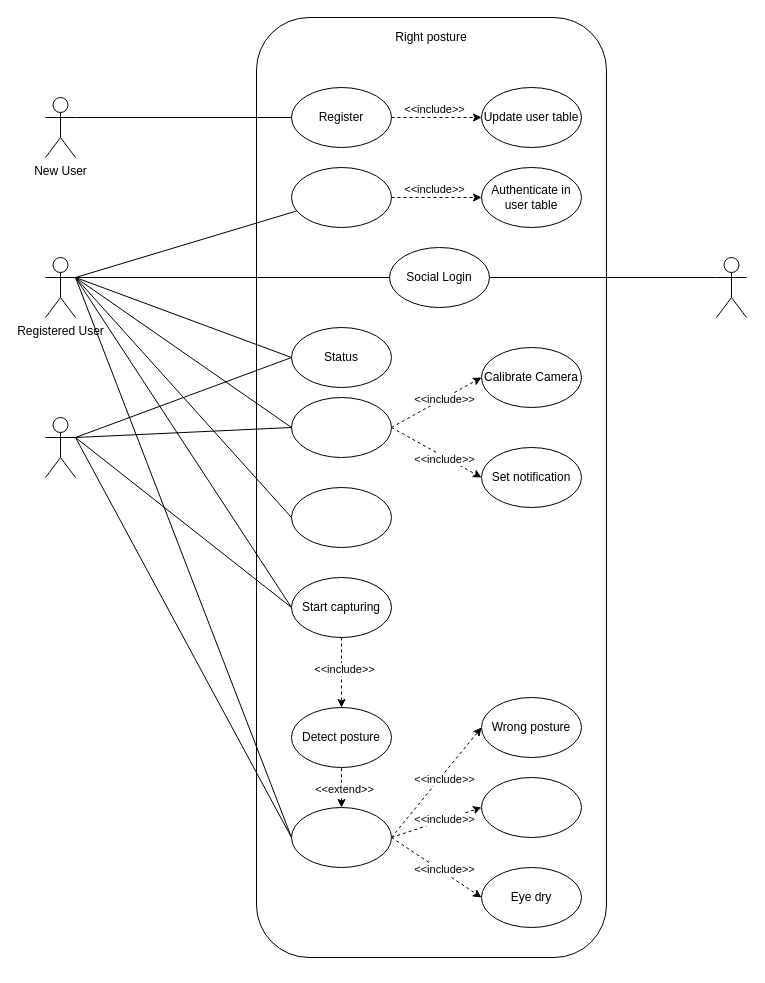
The diagram is 765 pixels wide and 983 high, and some of its shapes have lost their labels. Here are the shapes that lost their labels. From the top down, the box of each, then its label:
(290, 166, 392, 228): Local Login
(716, 256, 746, 318): Oauth
(44, 416, 76, 478): Guest User
(290, 396, 392, 458): Setting
(290, 486, 392, 548): Status history
(480, 776, 582, 838): Sit to long
(290, 806, 392, 868): Notification
